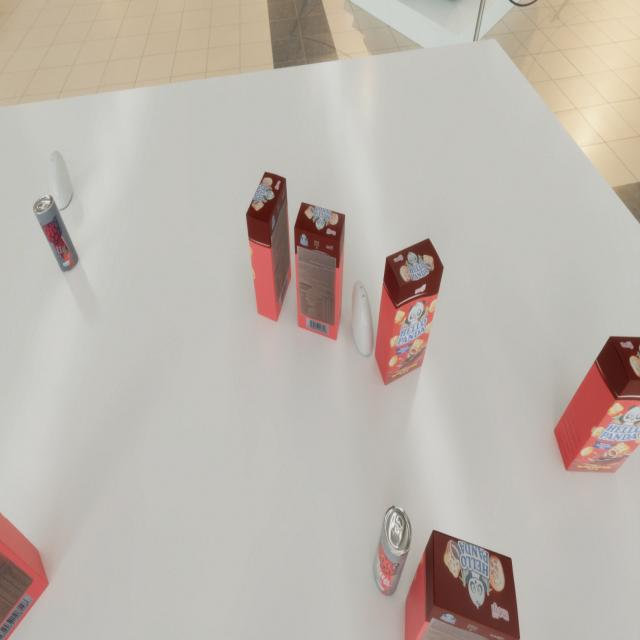HelloPanda: (404, 529, 520, 640), (554, 336, 640, 473), (374, 238, 444, 386), (294, 202, 345, 340), (246, 172, 291, 322)
Rita_zero_sugar: (33, 195, 78, 272), (374, 505, 412, 596)
Salt: (352, 280, 374, 355), (48, 150, 72, 210)
